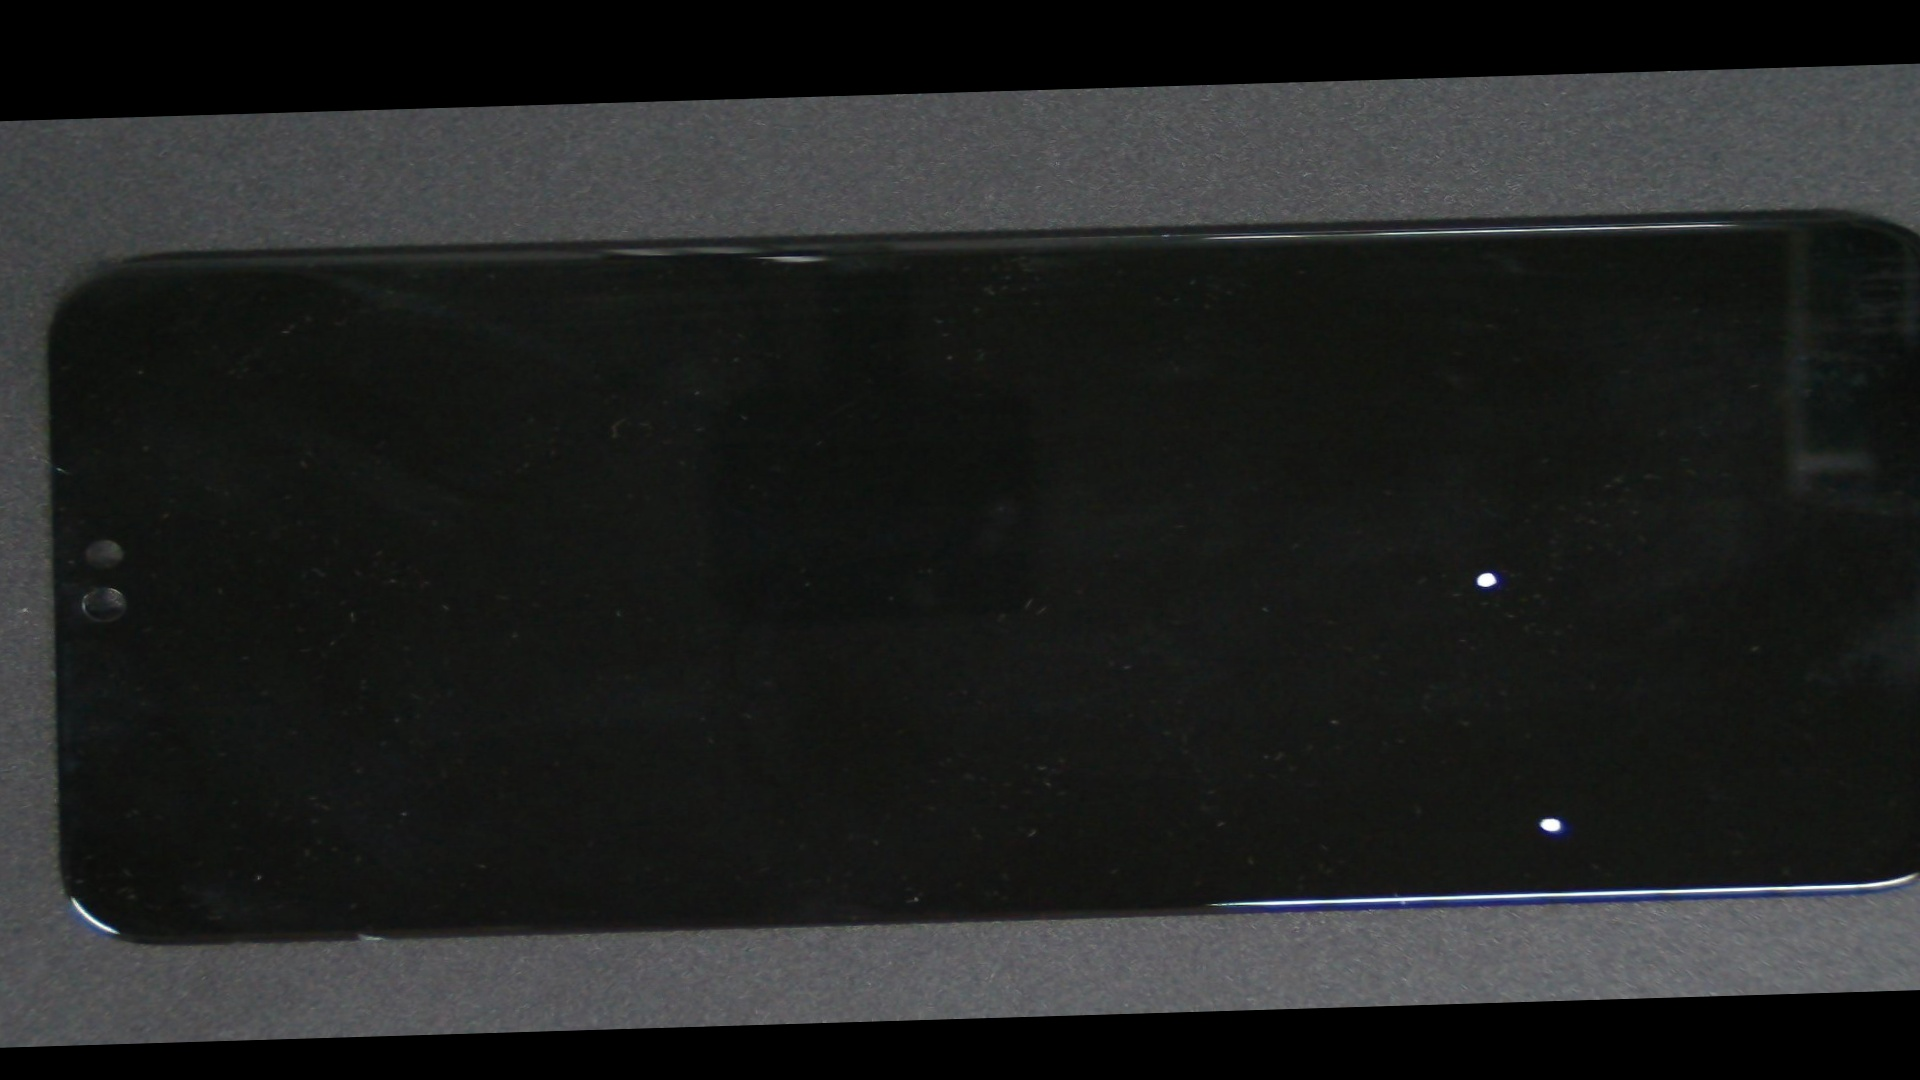oil: (721, 431, 1920, 1026), (694, 307, 1920, 843)
